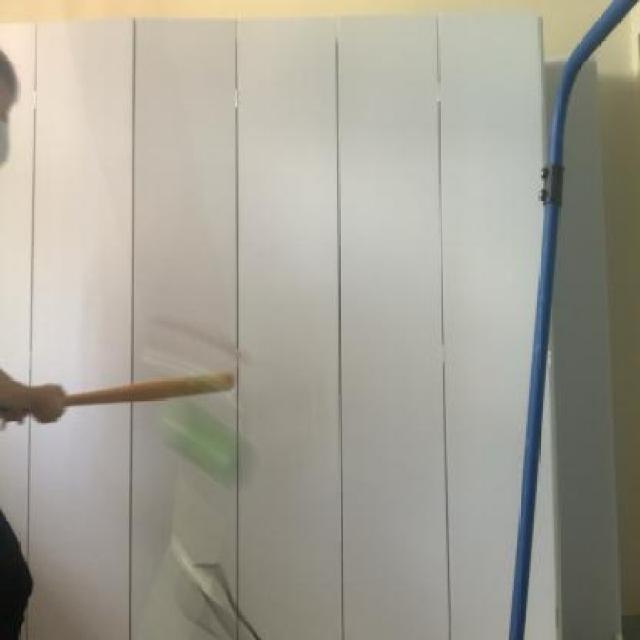baseball: (138, 395, 262, 496)
